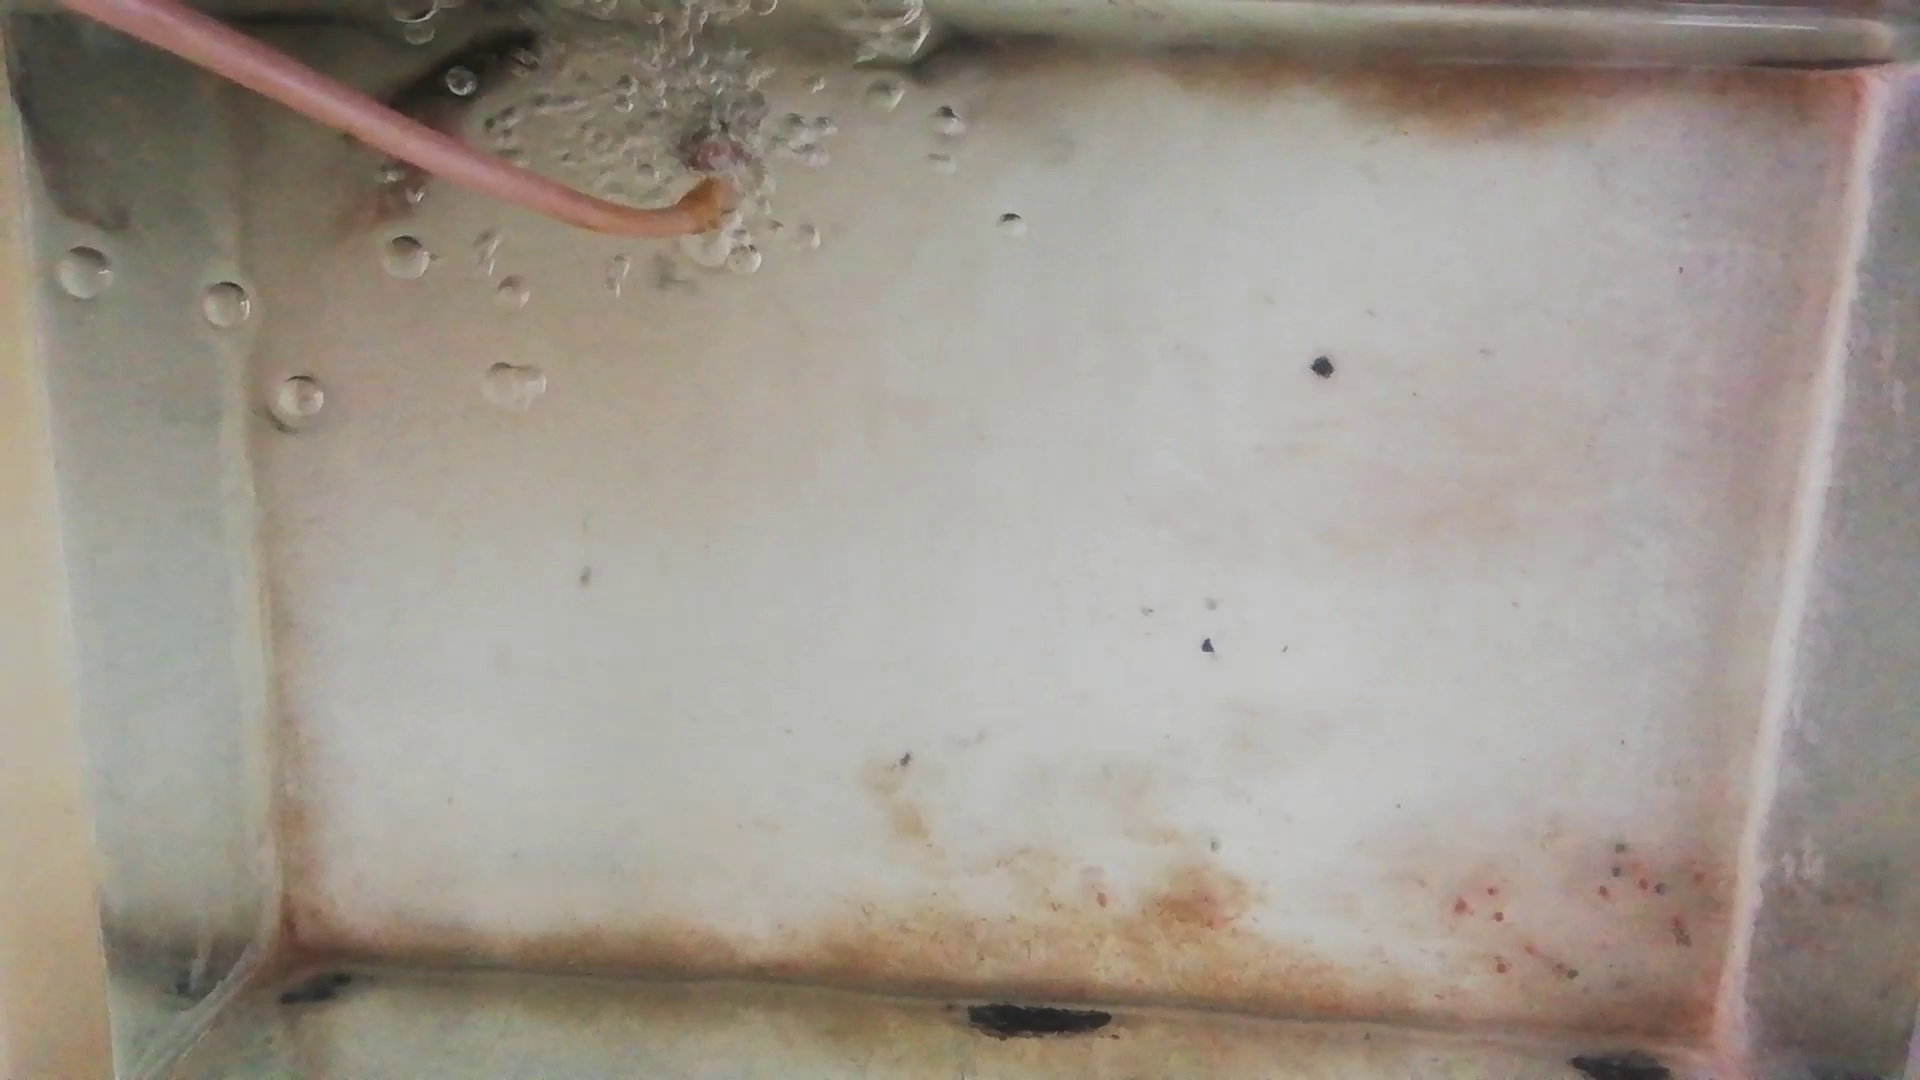fish: (397, 38, 545, 121)
